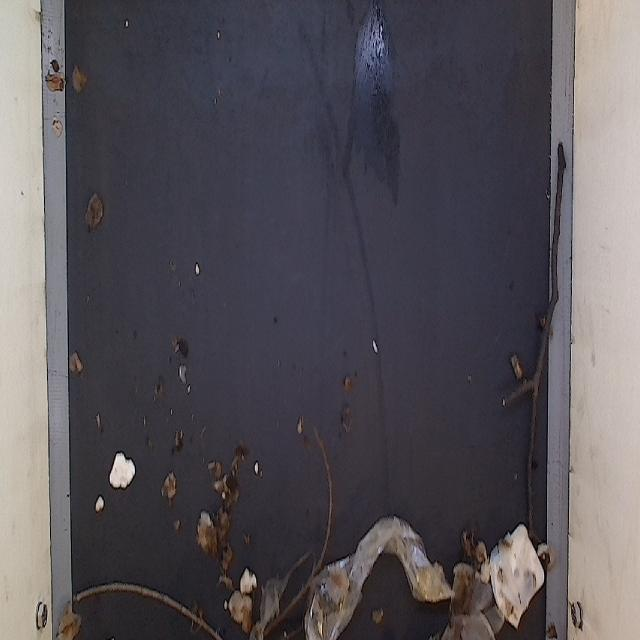food_wrapping: (487, 518, 545, 630)
plastic_cups: (440, 550, 504, 640)
plastic_films: (296, 514, 457, 640)
styrofoam: (106, 449, 142, 505)
